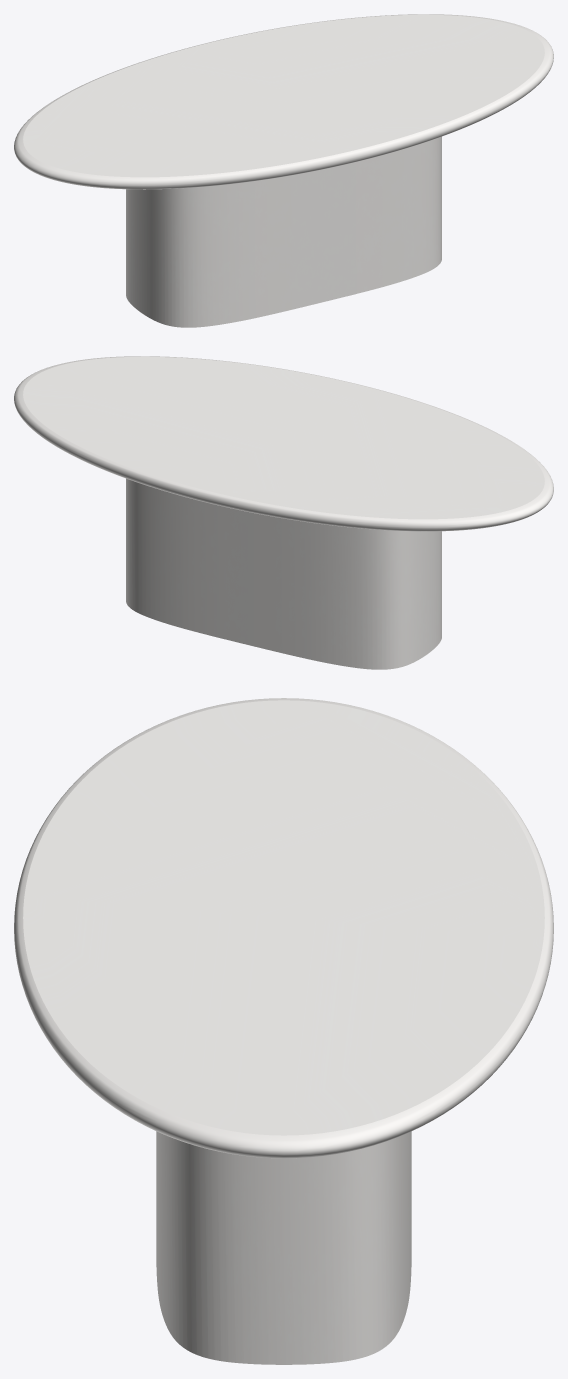
The model's file is purewhite_ellips_round_fixed.glb.
3 renders of one model, top to bottom at view 1: azimuth 30°, elevation 25°; view 2: azimuth 150°, elevation 25°; view 3: azimuth 270°, elevation 25°, orthographic. The views are drawn at different scales.
Visible parts, largest first — view 1: round_ellips, fixed; view 2: round_ellips, fixed; view 3: round_ellips, fixed.
Boxes of the visible parts, left/top/right/bottom form: round_ellips: left=14, top=14, right=553, bottom=189; fixed: left=126, top=136, right=441, bottom=327; round_ellips: left=14, top=356, right=553, bottom=531; fixed: left=126, top=478, right=441, bottom=669; round_ellips: left=14, top=698, right=553, bottom=1158; fixed: left=156, top=1131, right=411, bottom=1364.
Bounding box in the file's own units: 7.5 × 2.5 × 3.8.
1 material, 1 textured.
